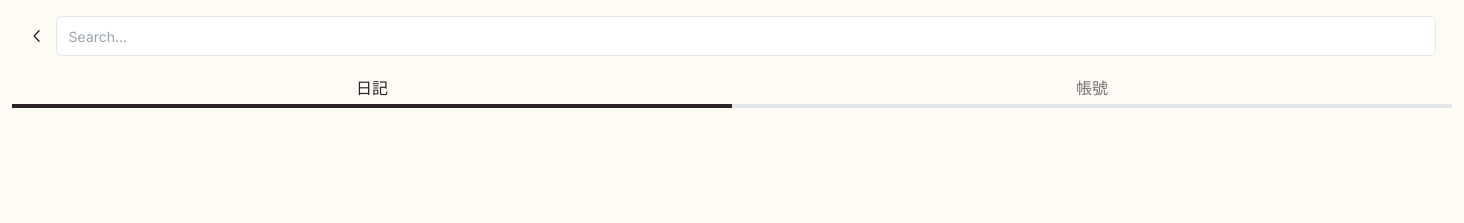
Scenario: Page Component › fetches user accounts based on search query after selecting the account tab
Press the mouse on the tab "帳號" at (1092, 90), box [732,72,1452,108]
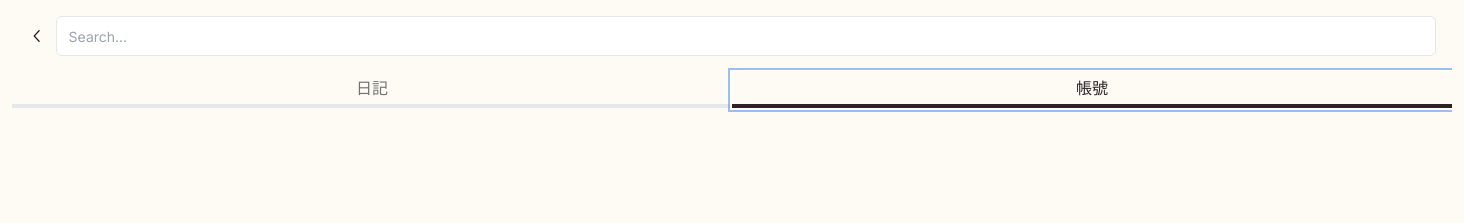
Now the tab "帳號" has attribute data-state="active", box [732,72,1452,108]
Type "test query" into the field with placeholder "Search..." at (746, 36), box [56,16,1436,56]
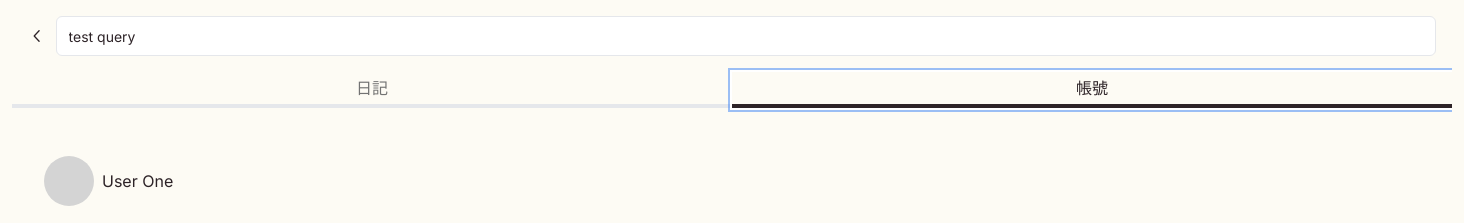
Now the text "User One" is shown, box [102,169,173,193]
